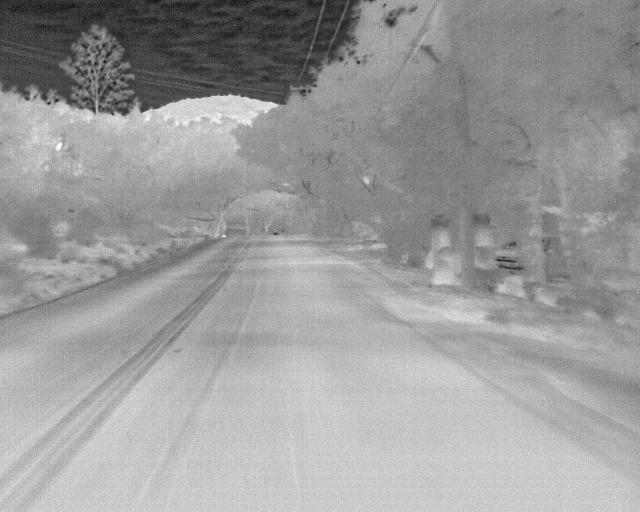car: (541, 234, 569, 280), (493, 241, 522, 271)
